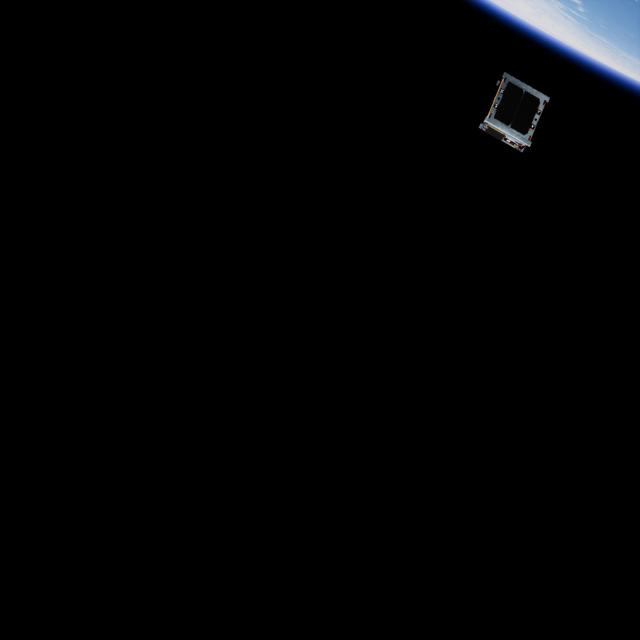satellite: (478, 70, 556, 160)
